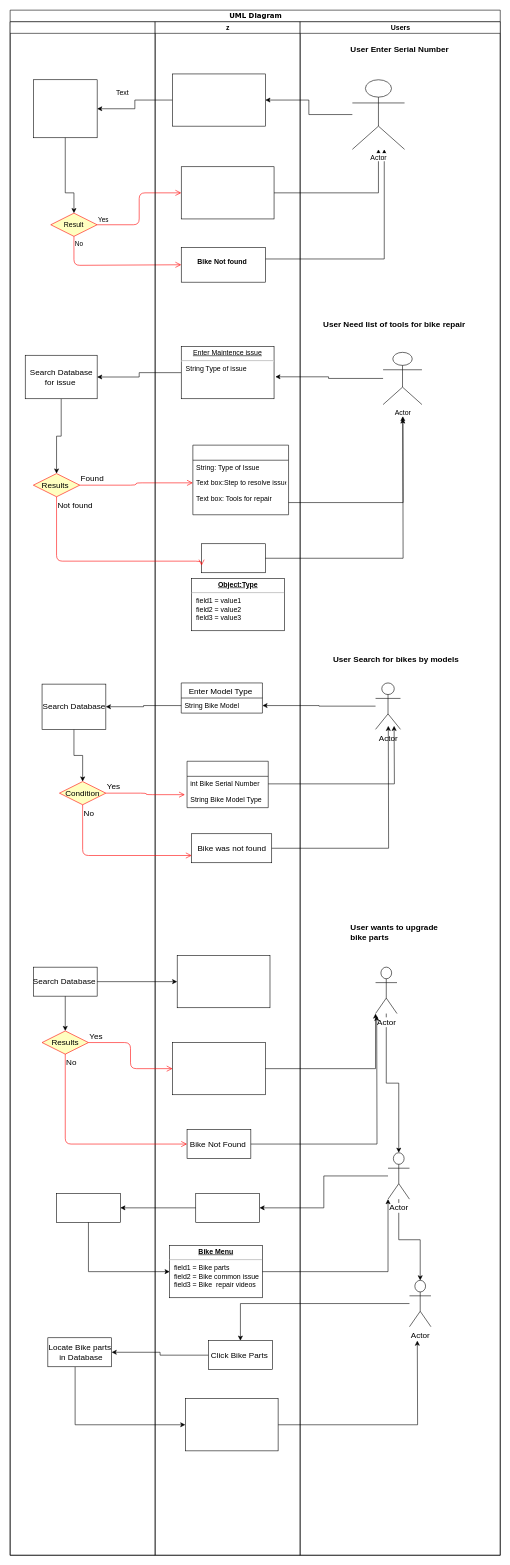
Image size: 510x1565. Some labels were removed from this diagram. Each missing label, with the box of its shape:
Bike info: (186, 761, 268, 808)
Bike Parts String Bike Parts: (185, 1398, 278, 1451)
Bike String Bike model types Int Bike Serial Number: (172, 1042, 265, 1095)
Click Bike: (195, 1193, 260, 1222)
Enter Bike info String Bike model or int Bike serial number: (177, 955, 270, 1008)
Enter:Serial Number int Bike Serial Number: (172, 73, 265, 126)
Locate Bike in Database: (56, 1193, 120, 1222)
Maintence report: (192, 445, 289, 515)
Repair Not found: (201, 543, 265, 573)
Return Bike String Type of Bike Int Bike Serial Number: (181, 166, 274, 219)
Search Database and verify Bike Info: (33, 79, 97, 138)
Web Server: (10, 21, 155, 1555)
